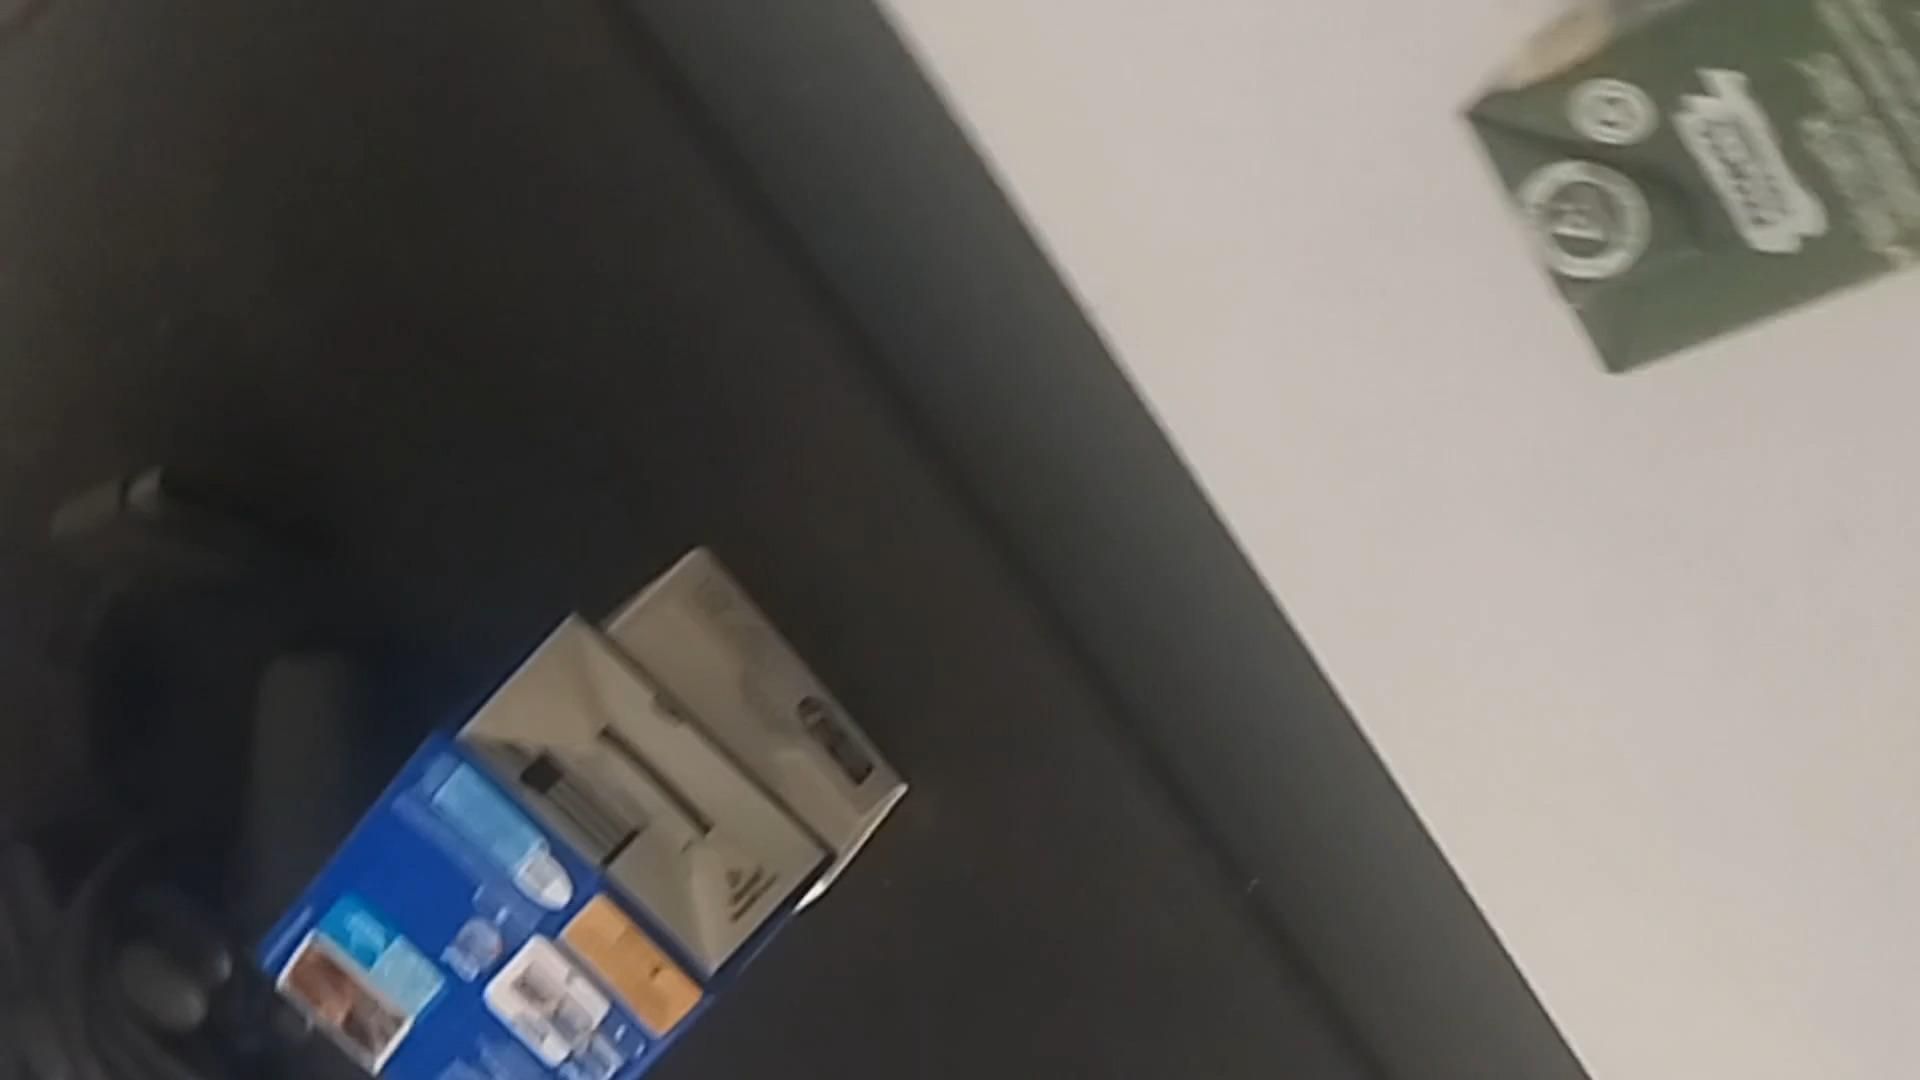coco: (1457, 0, 1920, 397)
